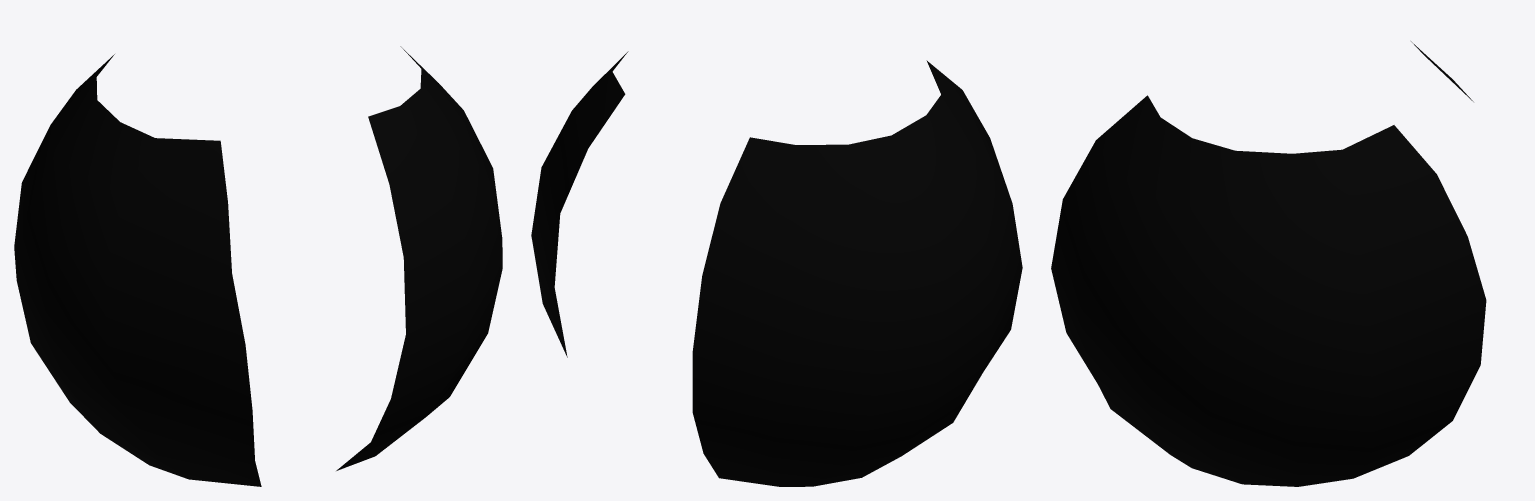
The model's file is bubble_solid3.glb.
3 renders of one model, left to right at view 1: azimuth 30°, elevation 25°; view 2: azimuth 150°, elevation 25°; view 3: azimuth 270°, elevation 25°, orthographic.
Parts seen in each view (by area): view 1: bubble_solid_texture.png__; view 2: bubble_solid_texture.png__; view 3: bubble_solid_texture.png__.
Part boxes in pixels (box(x1,y1,x2,y2)): bubble_solid_texture.png__: box(14, 46, 502, 486); bubble_solid_texture.png__: box(531, 51, 1022, 486); bubble_solid_texture.png__: box(1051, 41, 1486, 486).
Bounding box in the file's own units: 13.7 × 10.95 × 13.04.
1 material, 1 textured.
